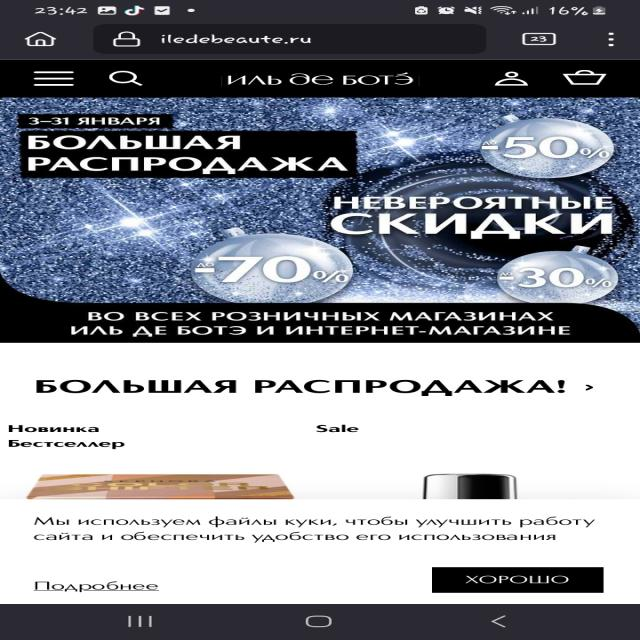button: (431, 565, 607, 593), (24, 575, 182, 596)
site: (0, 499, 640, 604)
